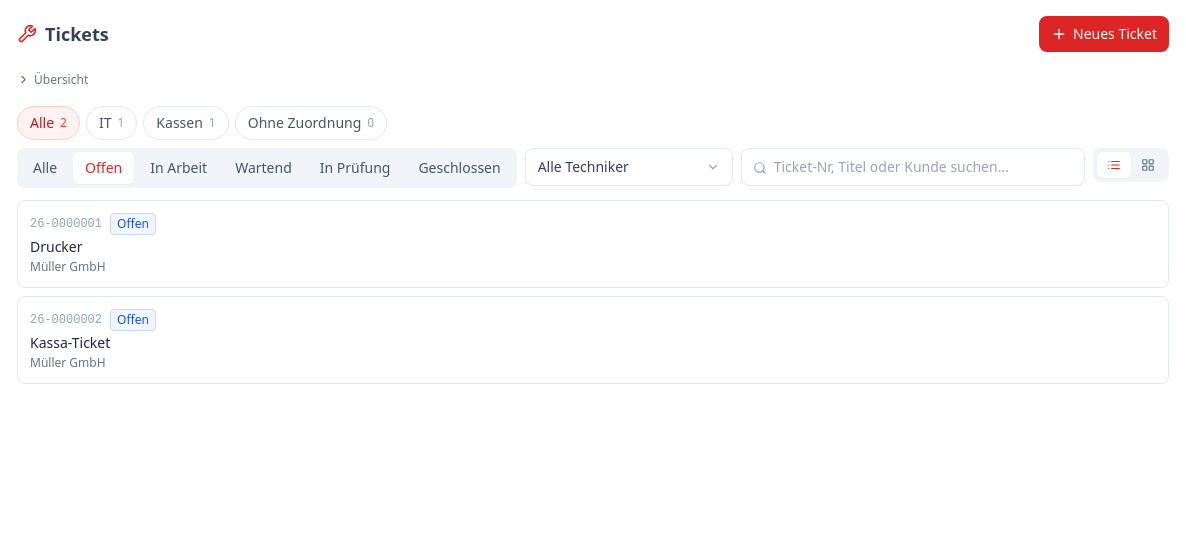
Test case: TicketsPage › drills down into a pool when a matrix row is clicked
Expected: the text "Drucker" is shown, [30, 236, 82, 256]
Expected: the number of list items with test id "ticket-row" is 2, [17, 200, 1169, 288]; [17, 296, 1169, 384]
Note: Open the overview, then drill into IT.
Click the button "Übersicht" at point(53, 80), box [17, 72, 88, 88]
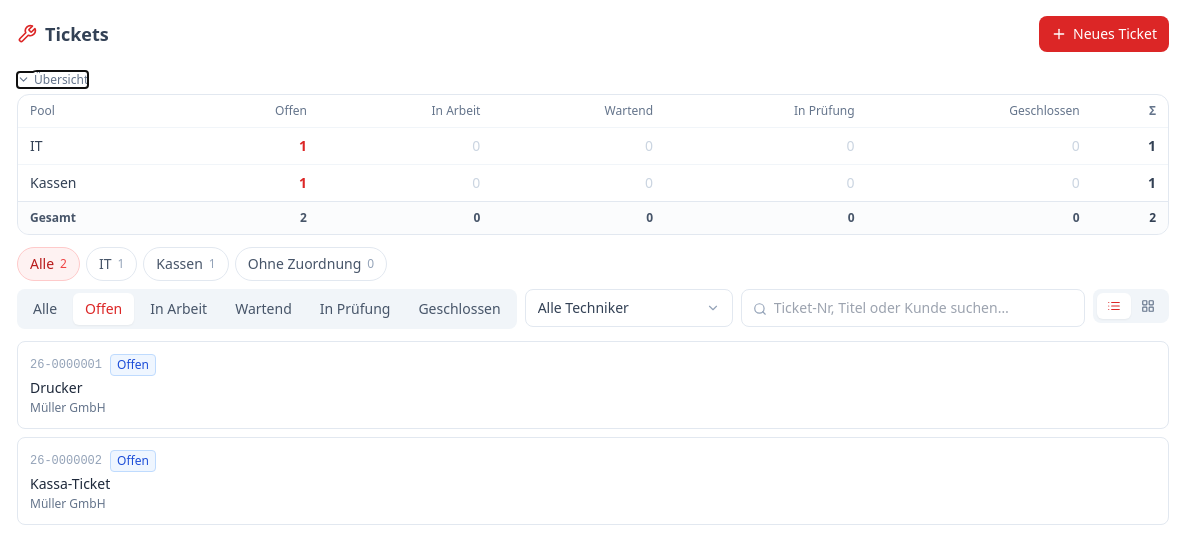
Result: the element with test id "ticket-matrix" is shown at [17, 94, 1169, 234]
Click the button "IT" at point(36, 146), box [30, 136, 42, 156]
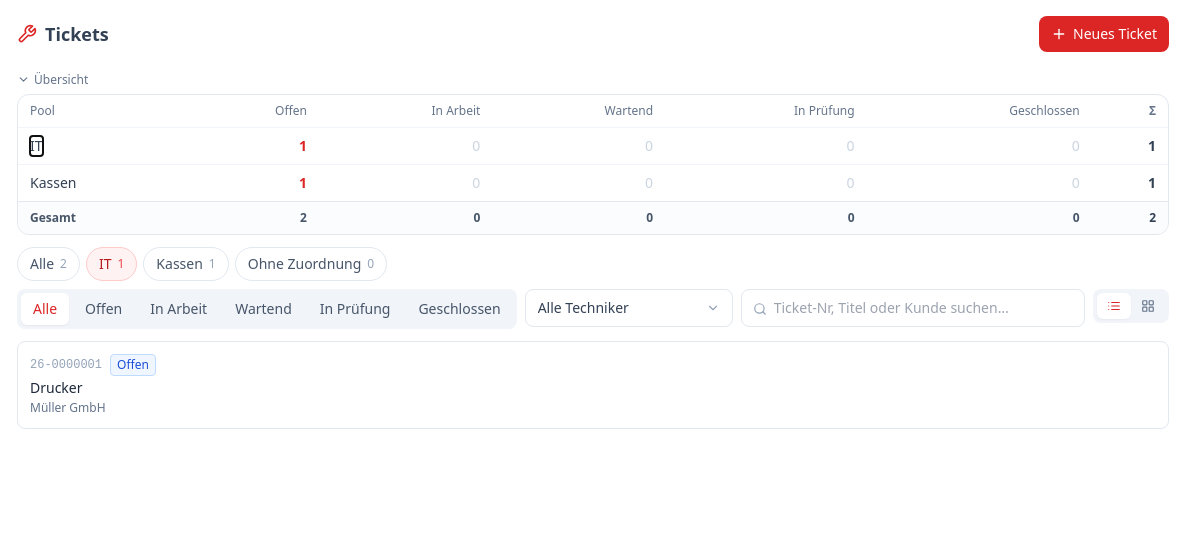
Expected: the text "Drucker" is shown, [30, 378, 82, 396]
Result: the number of list items with test id "ticket-row" is 1 at [17, 340, 1169, 428]
Result: the text "Kassa-Ticket" is gone
